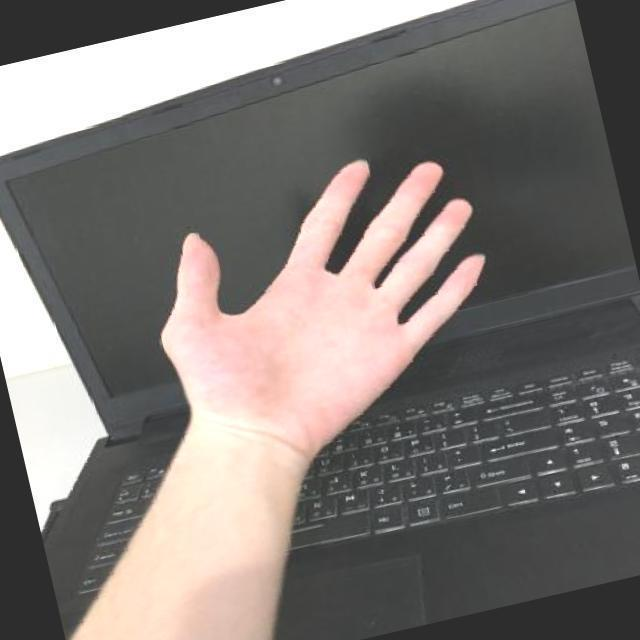hand: (116, 122, 536, 495)
